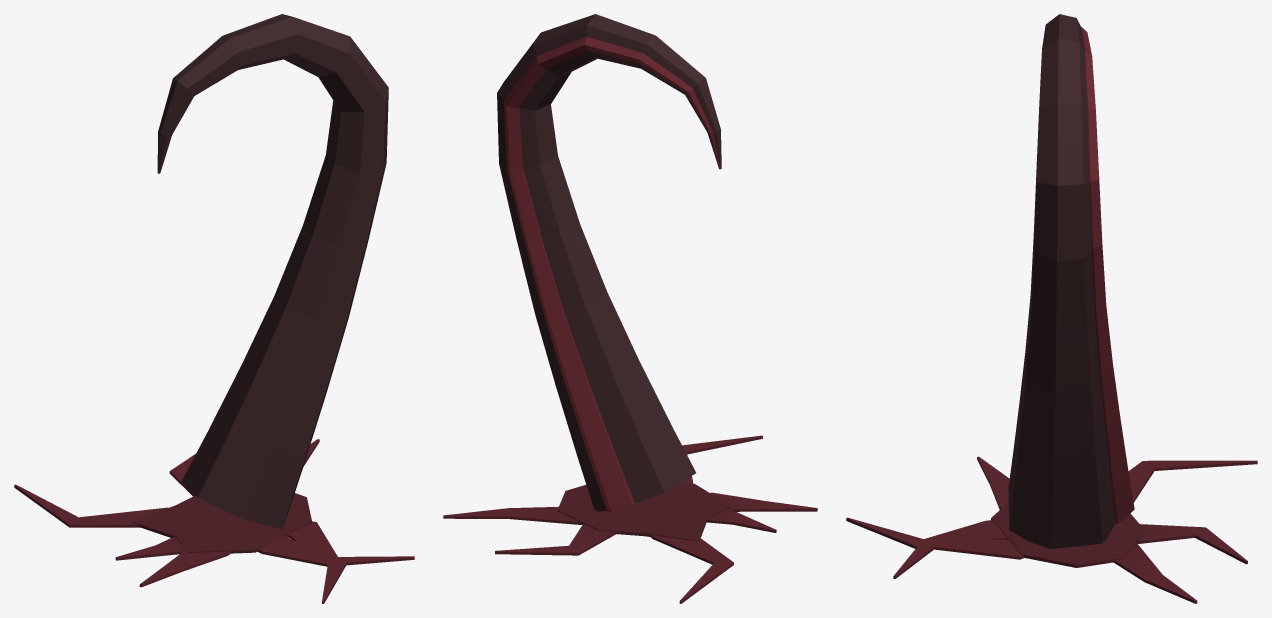
Rendered from PT_ArenaTentacleHook.glb.
3 renders of one model, left to right at view 1: azimuth 30°, elevation 25°; view 2: azimuth 150°, elevation 25°; view 3: azimuth 270°, elevation 25°, orthographic. The views are drawn at different scales.
Parts seen in each view (by area): view 1: PT_ArenaTentacleHook__Body; view 2: PT_ArenaTentacleHook__Body; view 3: PT_ArenaTentacleHook__Body.
Part boxes in pixels (left/top/right/bottom): PT_ArenaTentacleHook__Body: left=14, top=14, right=414, bottom=603; PT_ArenaTentacleHook__Body: left=443, top=14, right=817, bottom=603; PT_ArenaTentacleHook__Body: left=846, top=14, right=1257, bottom=603.
Size of the model in its own units: 11.31 by 18.82 by 13.45.
